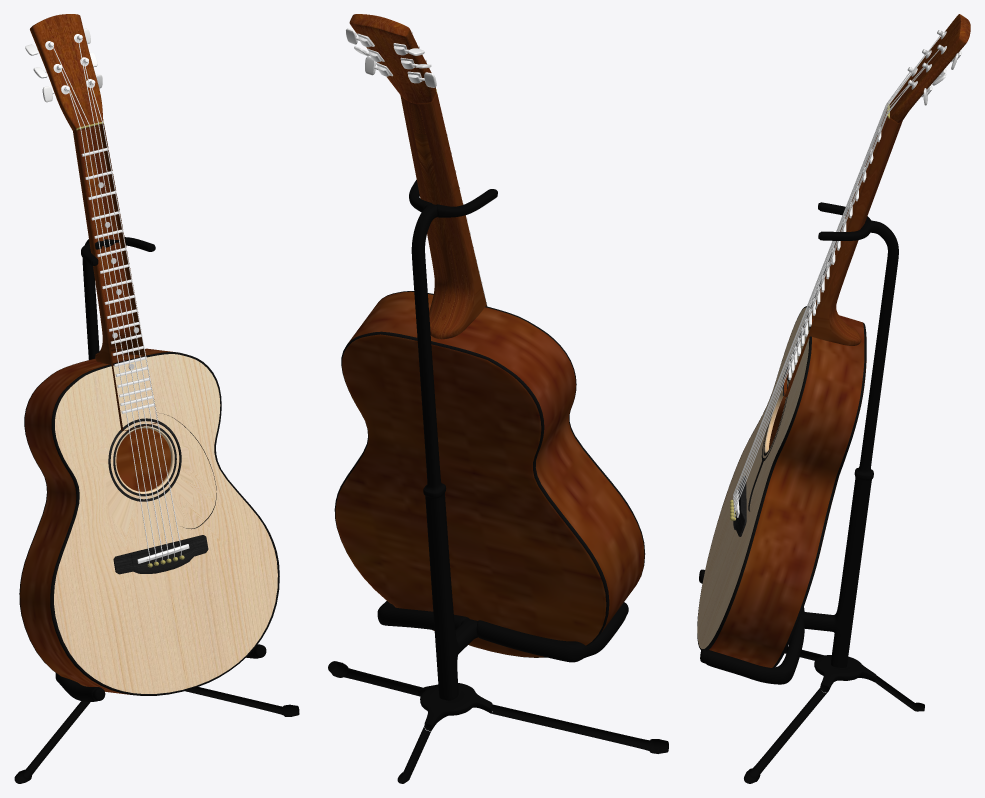
File: Acoustic_Guitar.obj
3 renders of one model, left to right at view 1: azimuth 30°, elevation 25°; view 2: azimuth 150°, elevation 25°; view 3: azimuth 270°, elevation 25°, orthographic. The views are drawn at different scales.
Visible parts, largest first — view 1: Body_Circle.001, Neck_Plane.001, Head_Stock_Plane.002, Strings_NurbsPath.006, Frets_Plane.006, Legs_Cylinder.002, Bridge_Plane, Base_Cube, Tuneing_Nobs_Plane.005, Bottom_Foam_Cube.001, Top_Foam_Cube.003; view 2: Body_Circle.001, Neck_Plane.001, Base_Cube, Bottom_Foam_Cube.001, Legs_Cylinder.002, Head_Stock_Plane.002, Leg_Base_Cylinder.001, Tuneing_Nobs_Plane.005, Top_Foam_Cube.003; view 3: Body_Circle.001, Base_Cube, Neck_Plane.001, Strings_NurbsPath.006, Head_Stock_Plane.002, Bottom_Foam_Cube.001, Legs_Cylinder.002, Leg_Base_Cylinder.001, Frets_Plane.006, Top_Foam_Cube.003, Bridge_Plane.
Part boxes in pixels (x1,y1,x2,y2): Body_Circle.001: (19, 348, 279, 695); Neck_Plane.001: (73, 122, 157, 430); Head_Stock_Plane.002: (30, 14, 103, 130); Strings_NurbsPath.006: (52, 38, 181, 563); Frets_Plane.006: (81, 148, 154, 413); Legs_Cylinder.002: (14, 687, 299, 783); Bridge_Plane: (113, 535, 208, 574); Base_Cube: (82, 239, 266, 700); Tuneing_Nobs_Plane.005: (25, 28, 102, 102); Bottom_Foam_Cube.001: (55, 644, 260, 701); Top_Foam_Cube.003: (81, 237, 154, 265); Body_Circle.001: (334, 291, 645, 657); Neck_Plane.001: (400, 89, 486, 339); Base_Cube: (411, 189, 628, 700); Bottom_Foam_Cube.001: (377, 601, 626, 662); Legs_Cylinder.002: (328, 661, 668, 783); Head_Stock_Plane.002: (349, 14, 436, 103); Leg_Base_Cylinder.001: (418, 683, 492, 730); Tuneing_Nobs_Plane.005: (346, 28, 436, 87); Top_Foam_Cube.003: (409, 180, 497, 217); Body_Circle.001: (697, 306, 866, 668); Base_Cube: (699, 203, 898, 667); Neck_Plane.001: (782, 104, 902, 397); Strings_NurbsPath.006: (733, 35, 940, 517); Head_Stock_Plane.002: (889, 14, 970, 122); Bottom_Foam_Cube.001: (706, 607, 804, 684); Legs_Cylinder.002: (744, 646, 924, 783); Leg_Base_Cylinder.001: (814, 655, 876, 692); Frets_Plane.006: (788, 127, 881, 379); Top_Foam_Cube.003: (819, 202, 871, 240); Bridge_Plane: (733, 476, 746, 536).
Bounding box in the file's own units: 0.5512 × 1.22 × 0.4385.
Materials: 10 (3 with a texture image).
